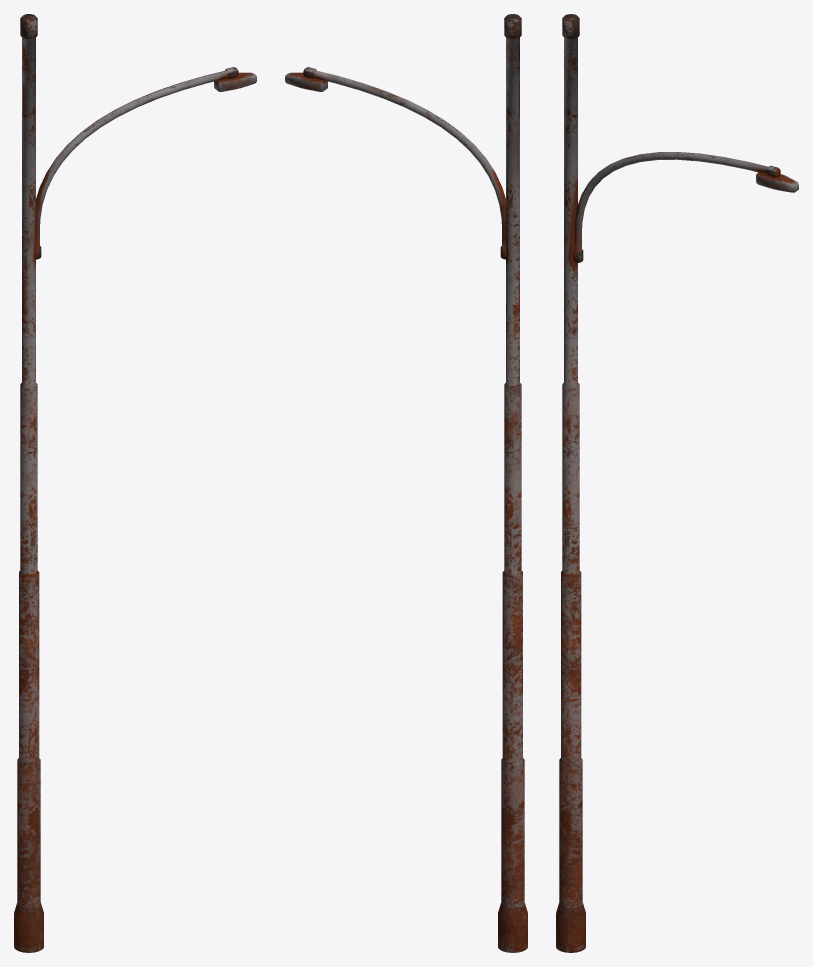
File: streetlight.glb
3 views of the same model, side by side, from view 1: azimuth 30°, elevation 25°; view 2: azimuth 150°, elevation 25°; view 3: azimuth 330°, elevation 25° (orthographic).
Visible parts, largest first — view 1: streetlight_frame; view 2: streetlight_frame; view 3: streetlight_frame.
Boxes of the visible parts, x1,y1,x2,y2 form: streetlight_frame: (14,14,256,952); streetlight_frame: (285,14,527,952); streetlight_frame: (556,14,798,952).
Bounding box in the file's own units: 8.81 × 32.67 × 0.9536.
Materials: 2 (2 with a texture image).
